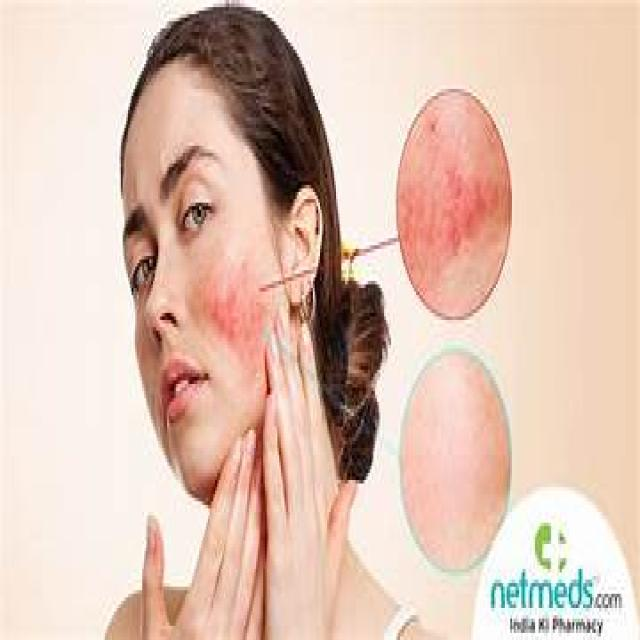Rosacea: (410, 162, 504, 274), (204, 288, 266, 353)
